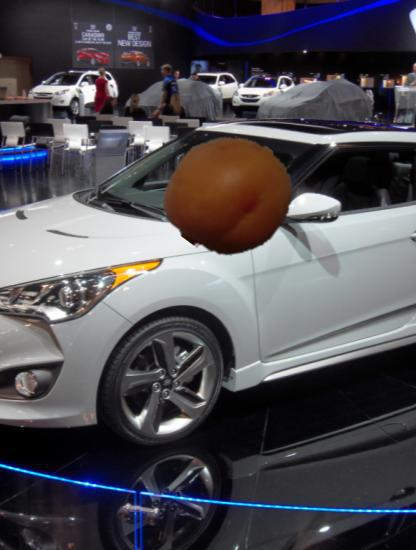Apricot: (168, 134, 292, 258)
